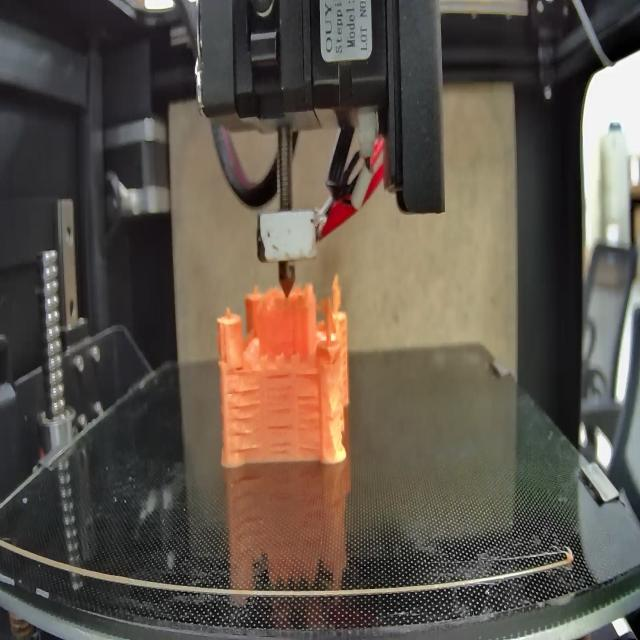cracks: (225, 388, 262, 451), (297, 393, 322, 451), (265, 375, 294, 417), (264, 423, 294, 458), (298, 369, 322, 385), (232, 361, 246, 375)
